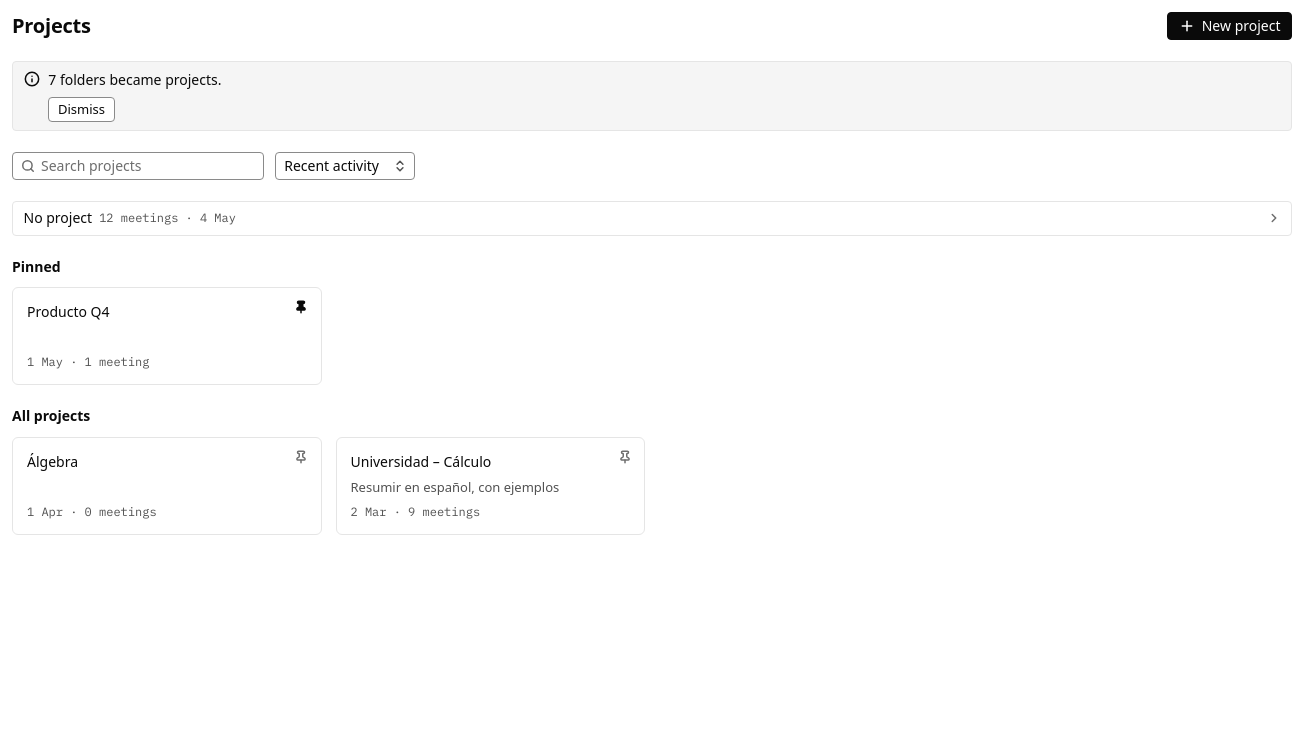
Test: migration notice › is dismissed once, for good
The image size is (1304, 732).
Click the button "Dismiss" at x=82, y=109, box [48,97,115,122]
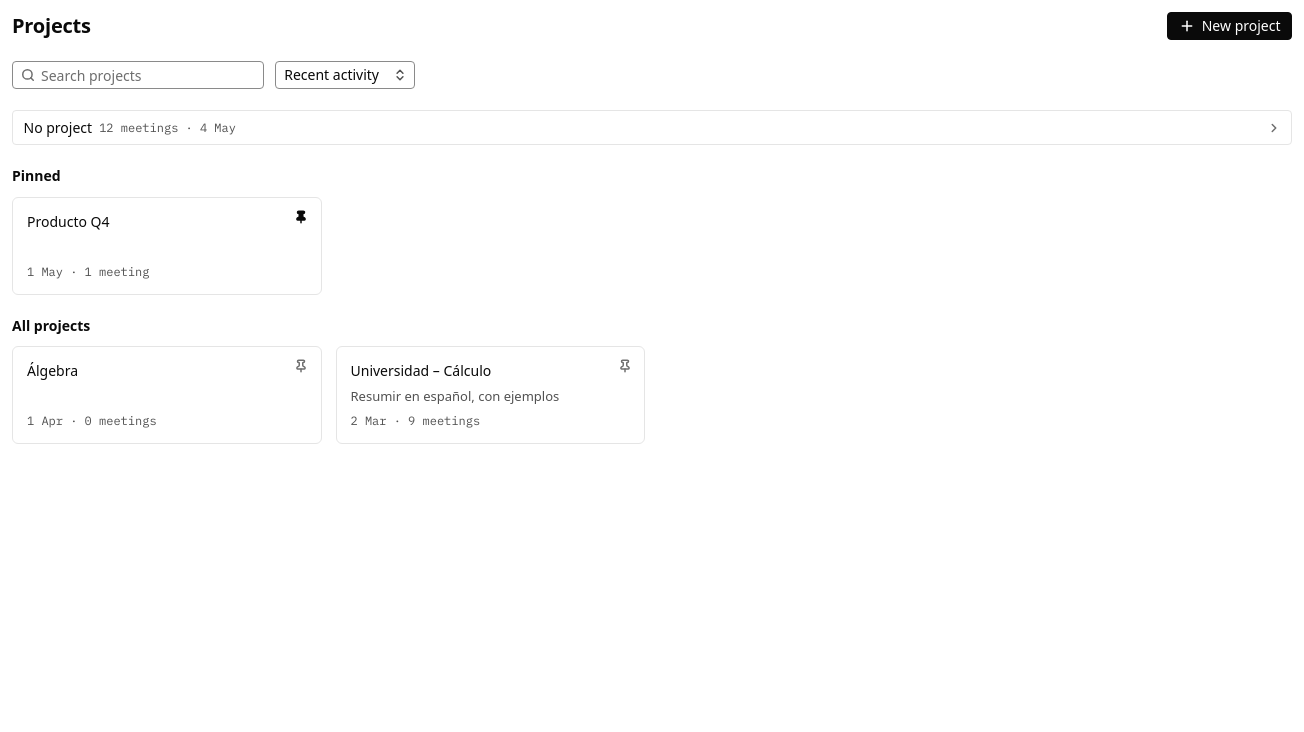
Now the message with test id "migration-notice" is gone
